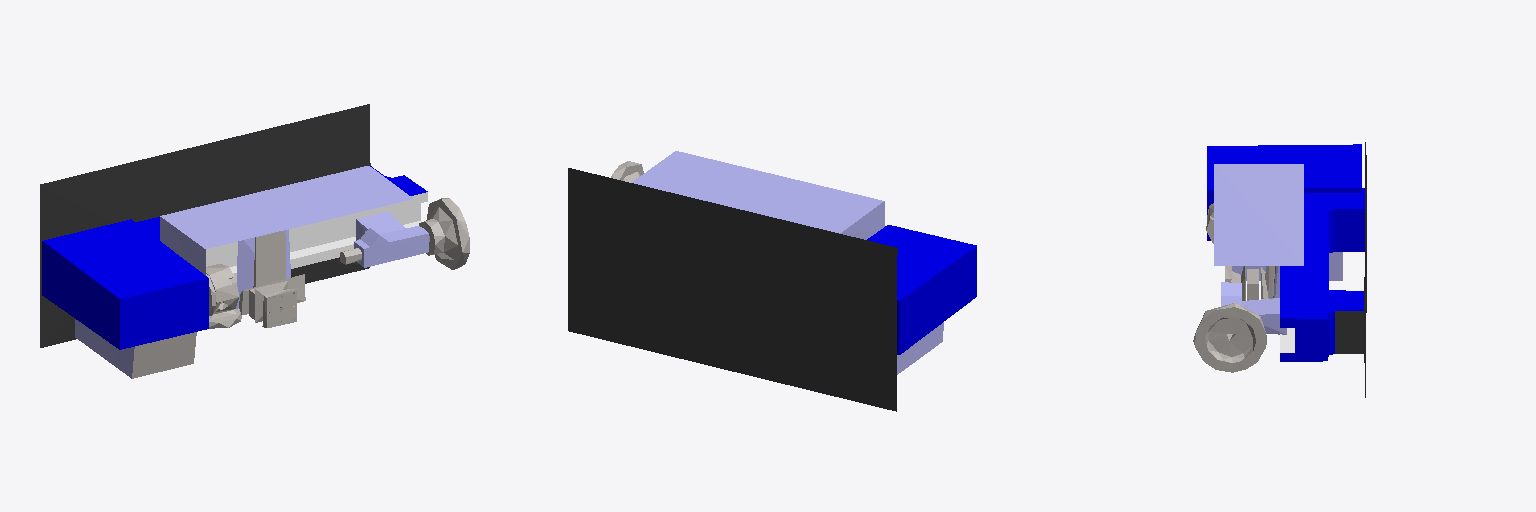
The model's file is tour_simple.obj.
The picture shows the model from 3 angles: view 1: azimuth 30°, elevation 25°; view 2: azimuth 150°, elevation 25°; view 3: azimuth 270°, elevation 25°; orthographic projection.
Visible parts, largest first — view 1: Solide56; view 2: Solide56; view 3: Solide56.
Boxes of the visible parts, x1=… form: Solide56: x1=40, y1=104, x2=469, y2=378; Solide56: x1=568, y1=151, x2=976, y2=411; Solide56: x1=1193, y1=142, x2=1366, y2=397.
Size of the model in its own units: 2974 by 1350 by 1295.